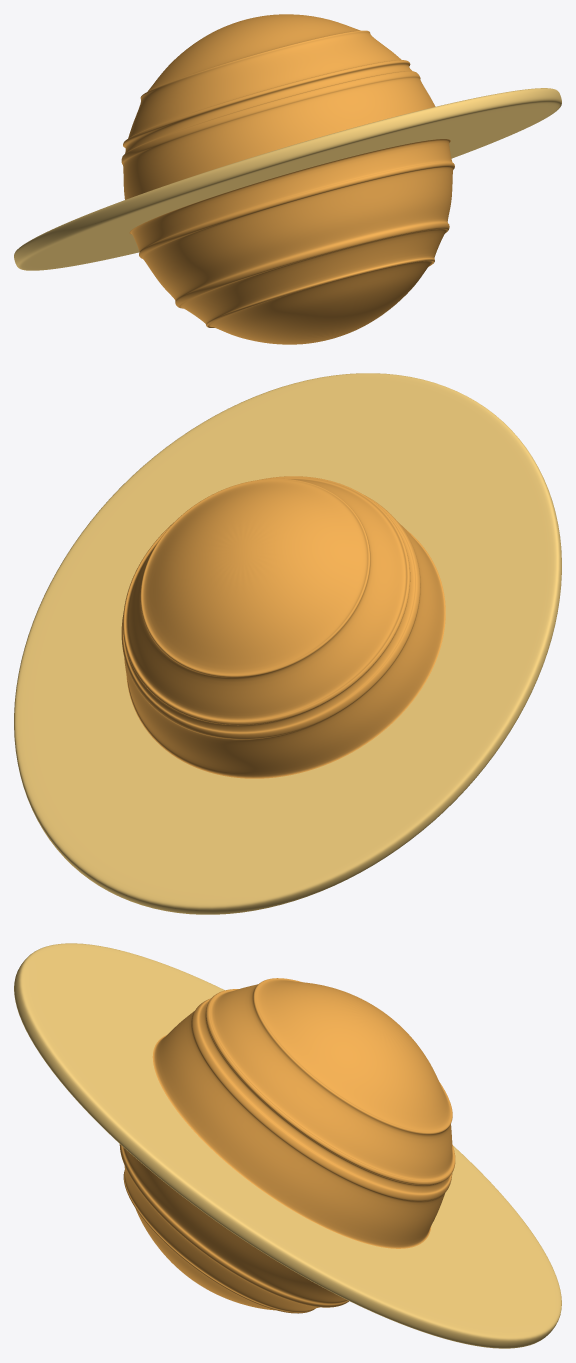
Rendered from planet4.fbx.
3 views of the same model, one above another, from view 1: azimuth 30°, elevation 25°; view 2: azimuth 150°, elevation 25°; view 3: azimuth 270°, elevation 25° (orthographic).
Parts seen in each view (by area): view 1: Sphere.004, Sphere.022; view 2: Sphere.022, Sphere.004; view 3: Sphere.004, Sphere.022.
Part boxes in pixels (bbox=[...]): Sphere.004: bbox=[121, 14, 454, 344]; Sphere.022: bbox=[14, 88, 561, 270]; Sphere.022: bbox=[14, 373, 561, 914]; Sphere.004: bbox=[121, 476, 445, 778]; Sphere.004: bbox=[119, 978, 455, 1313]; Sphere.022: bbox=[14, 943, 561, 1348].
Bounding box in the file's own units: 559 × 376 × 562.
